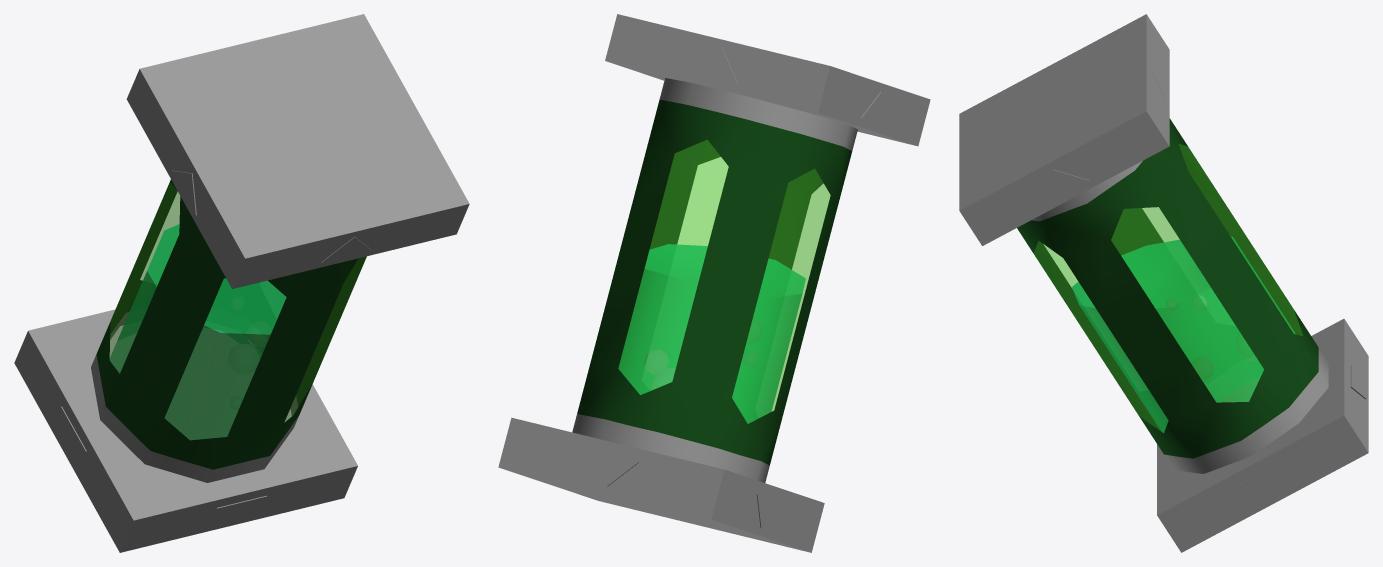
Rendered from est 2.FBX.
3 renders of one model, left to right at view 1: azimuth 30°, elevation 25°; view 2: azimuth 150°, elevation 25°; view 3: azimuth 270°, elevation 25°, orthographic. The views are drawn at different scales.
Visible parts, largest first — view 1: Box001, Cylinder001, Object, Cylinder002, Object002, Box008; view 2: Cylinder001, Box001, Object, Cylinder002, Object002, Box008; view 3: Box001, Cylinder001, Object, Cylinder002, Object002, Box008.
Part boxes in pixels (<box>): Box001: <box>14,14,469,552</box>; Cylinder001: <box>96,179,366,469</box>; Object: <box>110,182,366,439</box>; Cylinder002: <box>109,224,286,440</box>; Object002: <box>91,312,298,482</box>; Box008: <box>61,170,371,521</box>; Cylinder001: <box>577,99,852,465</box>; Box001: <box>498,14,930,552</box>; Object: <box>618,140,830,423</box>; Cylinder002: <box>618,244,805,423</box>; Object002: <box>572,78,857,482</box>; Box008: <box>591,48,885,528</box>; Box001: <box>959,14,1368,552</box>; Cylinder001: <box>1017,118,1318,458</box>; Object: <box>1034,144,1302,432</box>; Cylinder002: <box>1072,236,1295,432</box>; Object002: <box>1031,161,1328,473</box>; Box008: <box>1045,68,1366,495</box>.
Bounding box in the file's own units: 25.93 × 54.61 × 45.84.
